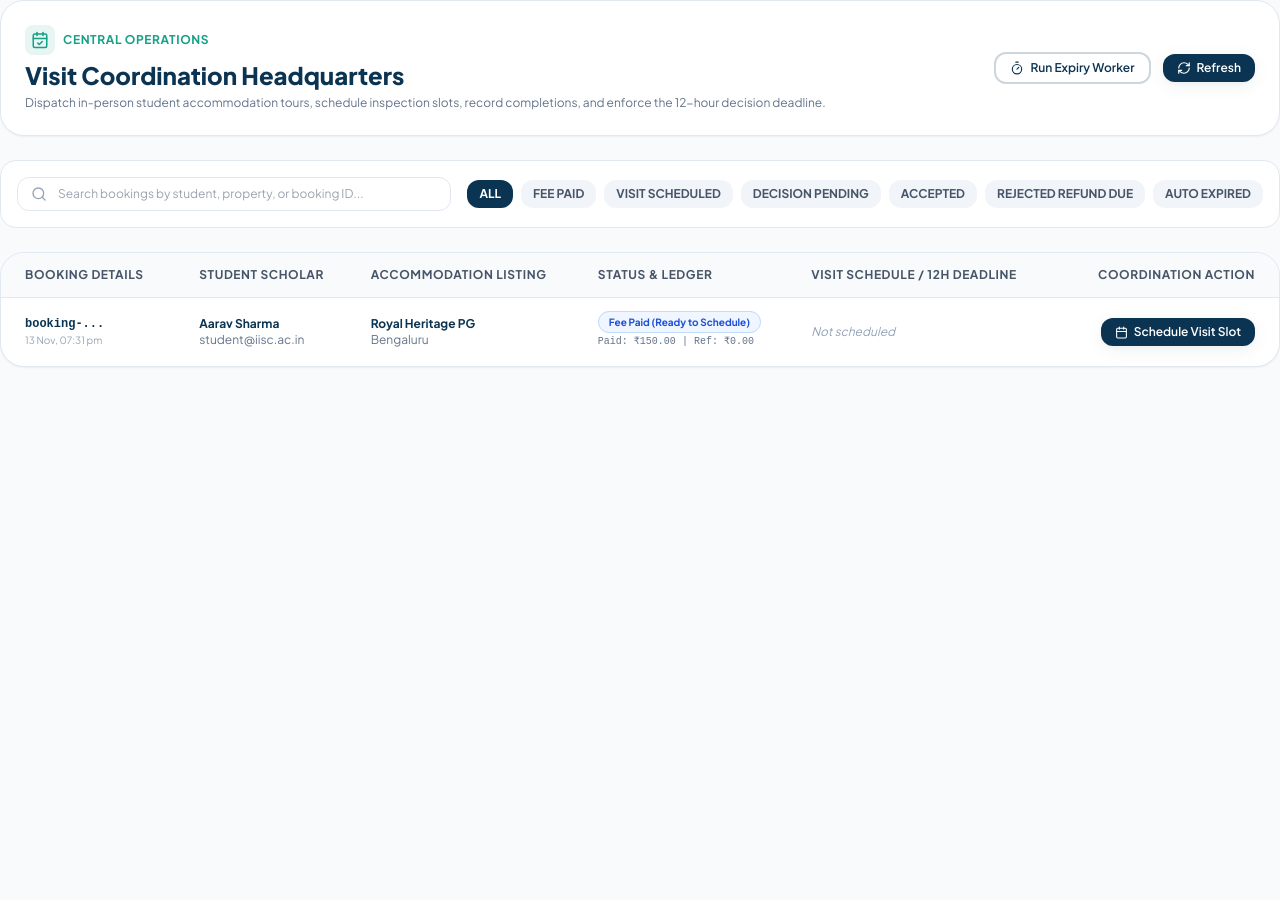
Test case: COLIN Admin Pages Component Tests › AdminVisitsPage › renders visit booking with schedule and complete actions
This screenshot has width=1280, height=900.
Expected: the text "Royal Heritage PG" is shown, [371,316,475,331]
Expected: the text "Aarav Sharma" is shown, [199,316,279,331]
Click the button "Schedule Visit Slot" at [1178, 332], box [1101,318,1255,346]
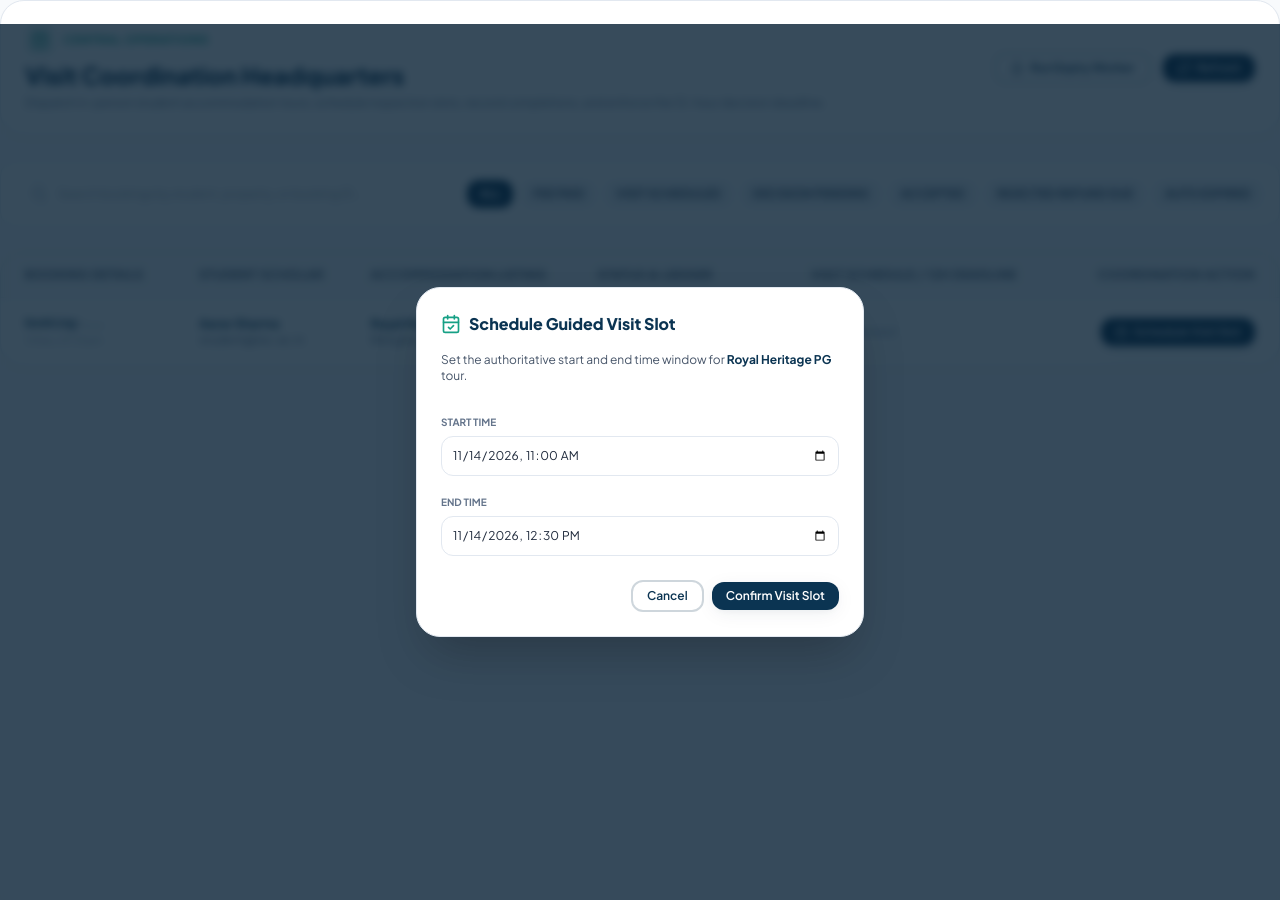
Expected: the heading "Schedule Guided Visit Slot" is shown, [469,312,676,336]
